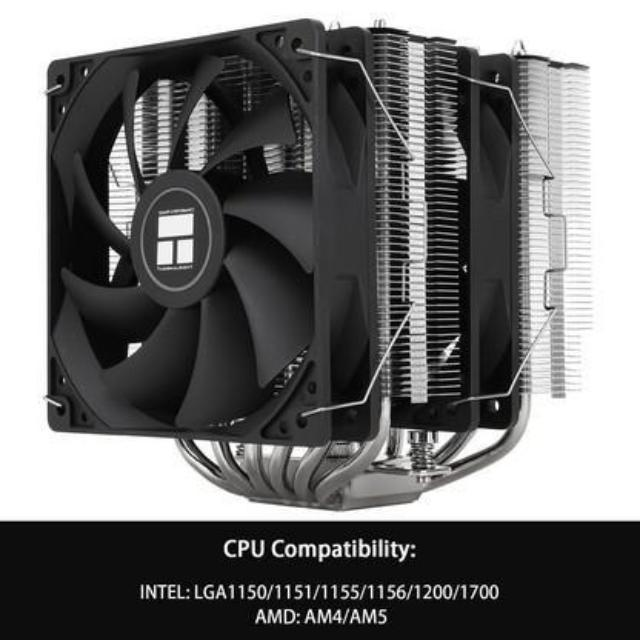CPU_Fan: (29, 10, 594, 513)
